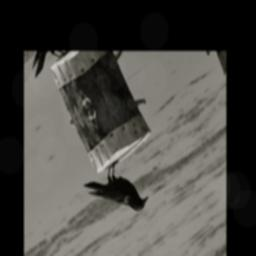Crow: (81, 148, 153, 240)
